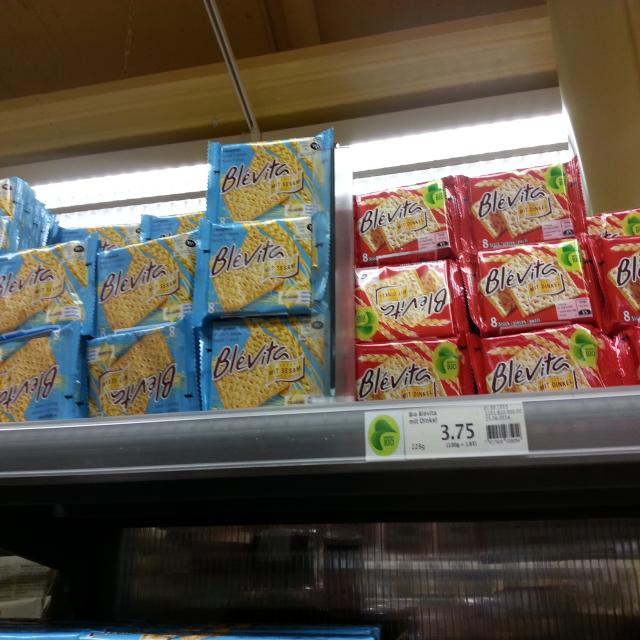Biscuits: (463, 233, 595, 335), (195, 215, 329, 315), (451, 156, 587, 253), (199, 321, 329, 409), (91, 227, 200, 331), (470, 323, 613, 394), (205, 138, 330, 218), (0, 245, 103, 340), (355, 254, 465, 341), (90, 325, 192, 417), (352, 180, 465, 262), (0, 337, 89, 428), (355, 339, 474, 400)
